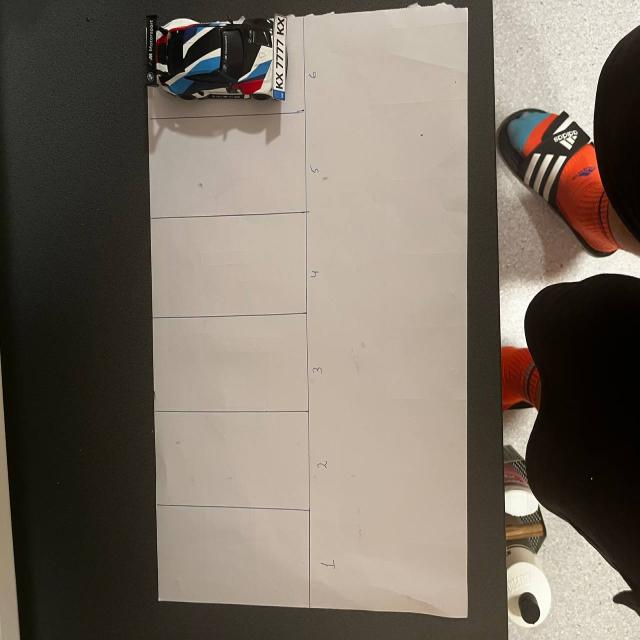cars: (142, 6, 313, 106)
